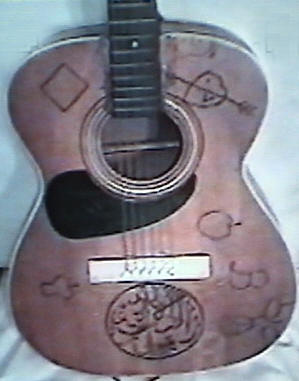guitar: (7, 4, 298, 377)
